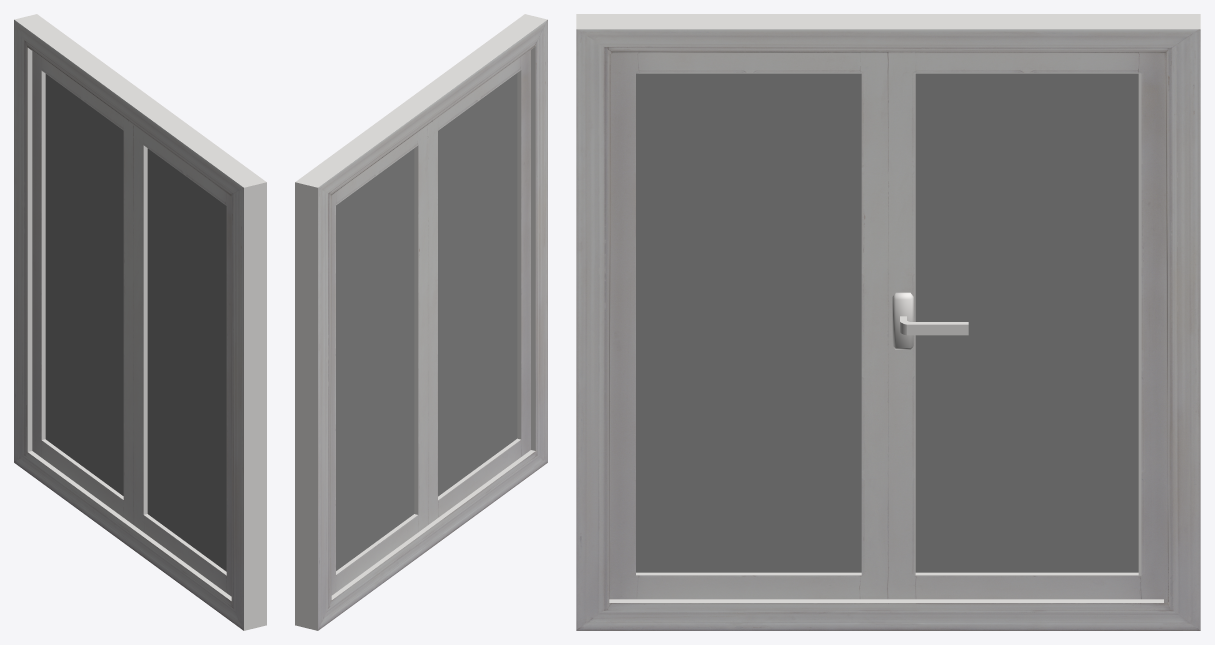
Rendered from Windows.FBX.
The picture shows the model from 3 angles, left to right: view 1: azimuth 30°, elevation 25°; view 2: azimuth 150°, elevation 25°; view 3: azimuth 270°, elevation 25°; orthographic projection. The views are drawn at different scales.
Parts seen in each view (by area): view 1: Window, WindowGlass; view 2: Window, WindowGlass; view 3: WindowGlass, Window.
Boxes of the visible parts, bbox=[...] form: Window: bbox=[14, 14, 266, 630]; WindowGlass: bbox=[45, 74, 226, 571]; Window: bbox=[295, 14, 547, 630]; WindowGlass: bbox=[336, 73, 517, 570]; WindowGlass: bbox=[636, 73, 1138, 572]; Window: bbox=[576, 14, 1200, 630].
Bounding box in the file's own units: 4.77 × 59.25 × 55.7.
